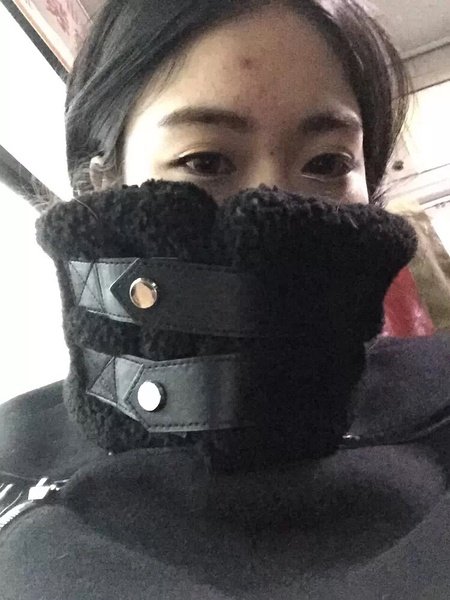face_mask: (130, 15, 373, 414)
